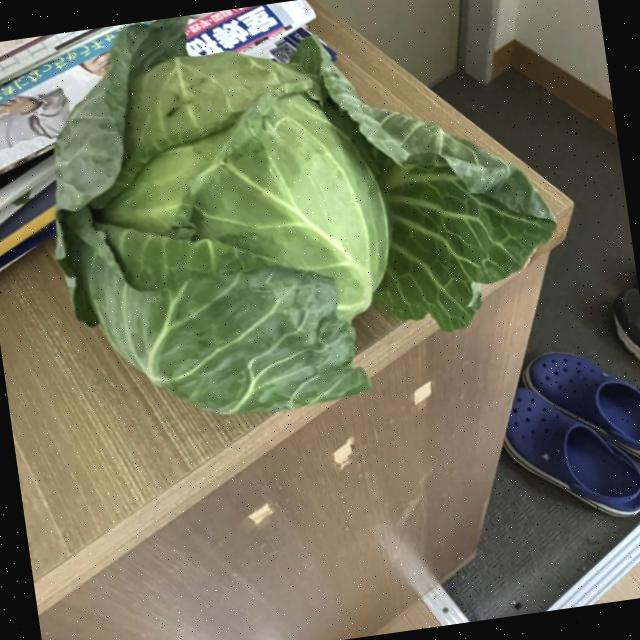cabbage: (17, 0, 583, 445)
